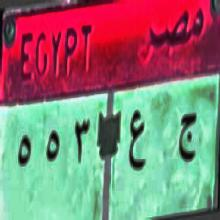3: (70, 115, 93, 166)
5: (44, 127, 62, 174), (15, 133, 33, 176)
ain: (126, 107, 149, 176)
jeem: (175, 110, 198, 166)
